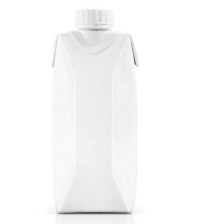carton: (46, 5, 138, 218)
